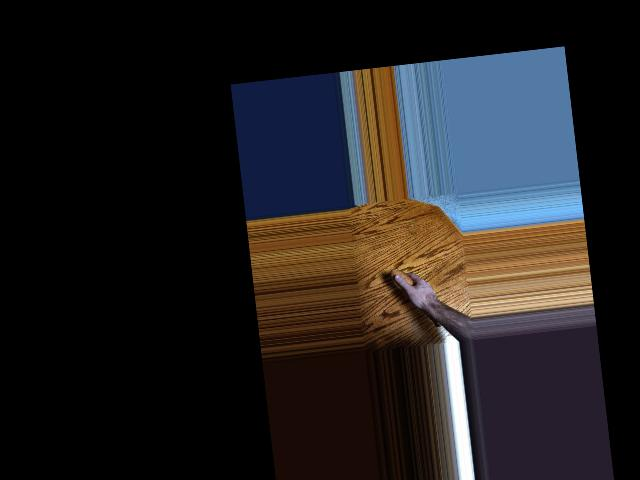sweet_potato: (389, 263, 446, 334)
